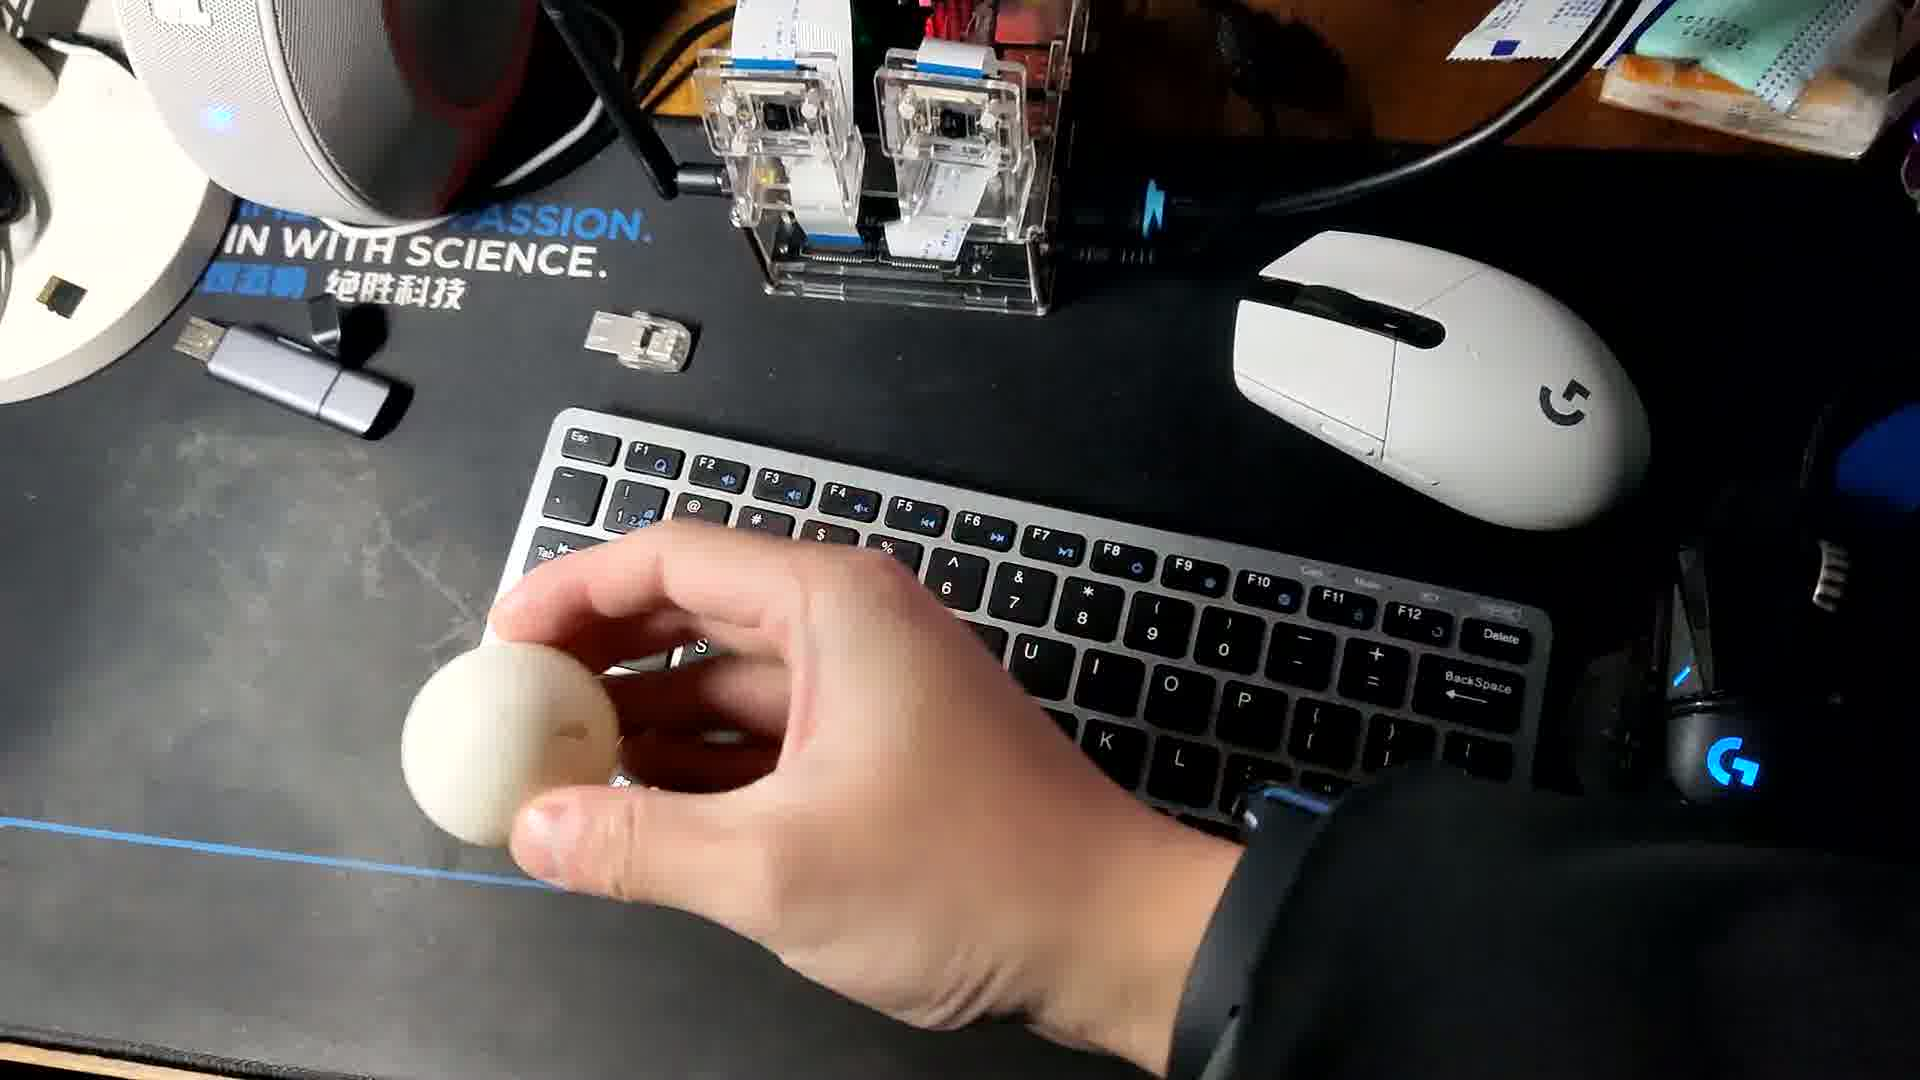Ball: (400, 644, 621, 851)
